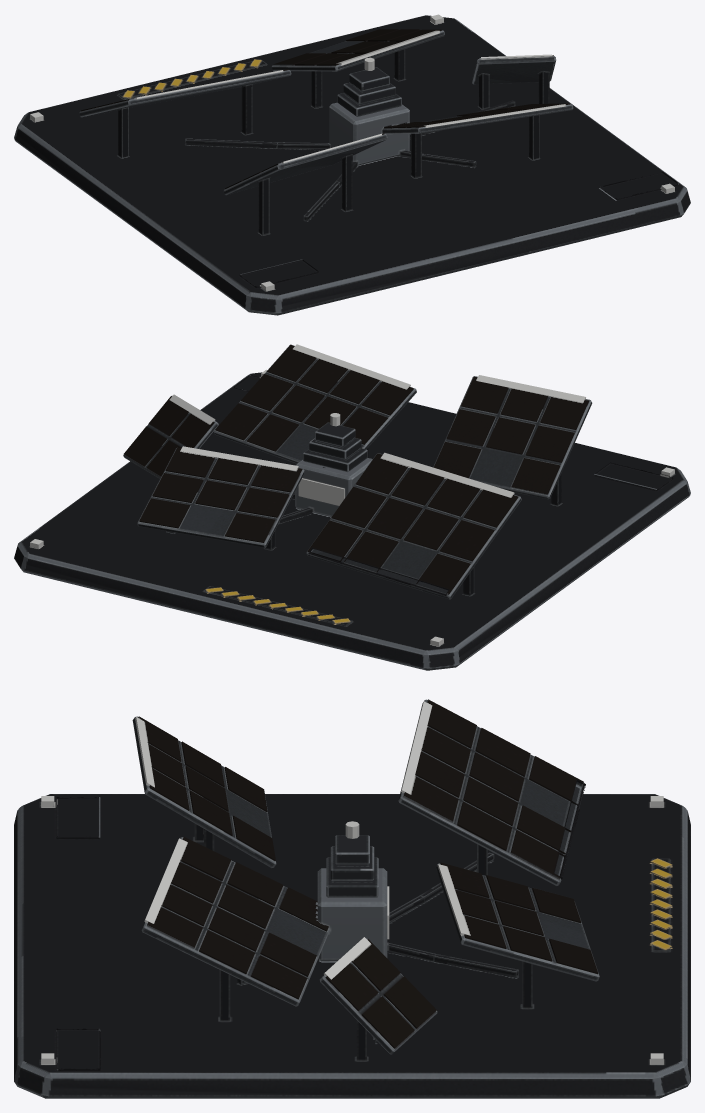
The model's file is chs_solar.fbx.
3 views of the same model, one above another, from view 1: azimuth 30°, elevation 25°; view 2: azimuth 150°, elevation 25°; view 3: azimuth 270°, elevation 25° (orthographic). The views are drawn at different scales.
Parts seen in each view (by area): view 1: base_bar, base_glow_running_bar; view 2: base_bar, base_glow_running_bar, base_glow_power_bar; view 3: base_bar, base_glow_running_bar.
Boxes of the visible parts, <box> form: base_bar: <box>14,15,690,315</box>; base_glow_running_bar: <box>30,14,674,291</box>; base_bar: <box>14,344,690,670</box>; base_glow_running_bar: <box>30,344,674,646</box>; base_glow_power_bar: <box>298,478,344,505</box>; base_bar: <box>14,699,690,1098</box>; base_glow_running_bar: <box>41,701,663,1064</box>.
Bounding box in the file's own units: 1556 × 565 × 1556.
Materials: 2 (2 with a texture image).
